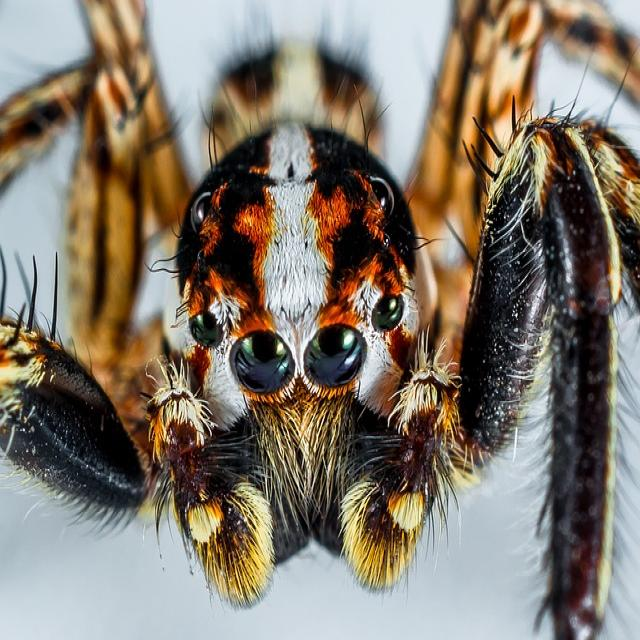spyder: (0, 0, 640, 637)
